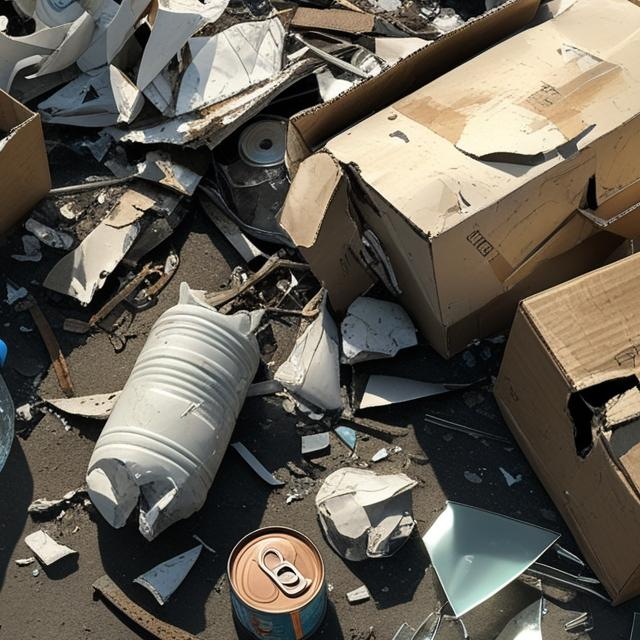metal: (213, 520, 329, 630)
plastic: (118, 288, 253, 518)
